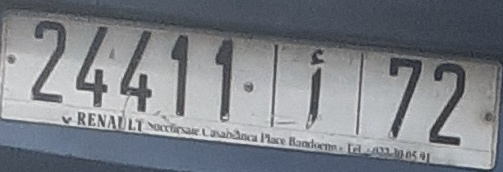1: (168, 32, 191, 120), (214, 36, 234, 124)
2: (425, 60, 466, 147), (28, 17, 68, 106)
4: (119, 28, 157, 114), (74, 24, 111, 111)
7: (384, 54, 424, 145)
a: (303, 47, 327, 134)
